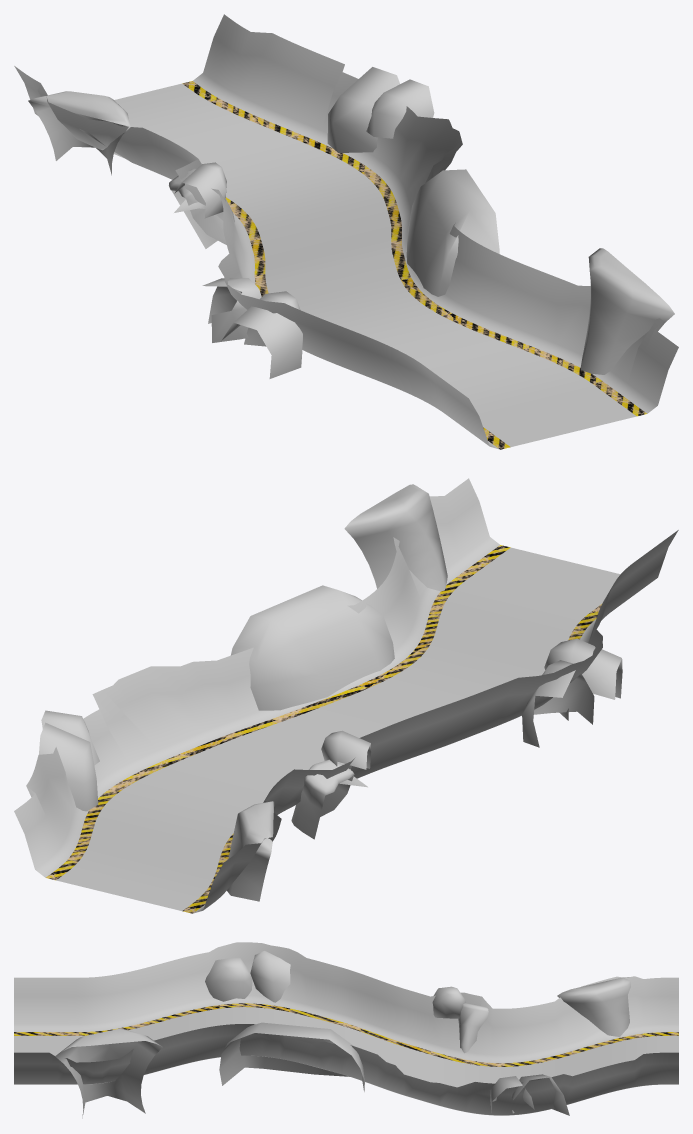
File: shikane_Chunk.fbx
The picture shows the model from 3 angles, top to bottom: view 1: azimuth 30°, elevation 25°; view 2: azimuth 150°, elevation 25°; view 3: azimuth 270°, elevation 25°; orthographic projection. The views are drawn at different scales.
Parts seen in each view (by area): view 1: shikane_Chunk1; view 2: shikane_Chunk1; view 3: shikane_Chunk1.
Boxes of the visible parts, x1,y1,x2,y2 form: shikane_Chunk1: [14, 14, 678, 449]; shikane_Chunk1: [14, 478, 678, 913]; shikane_Chunk1: [14, 942, 678, 1118].
Size of the model in its own units: 73.98 by 22.35 by 150.
